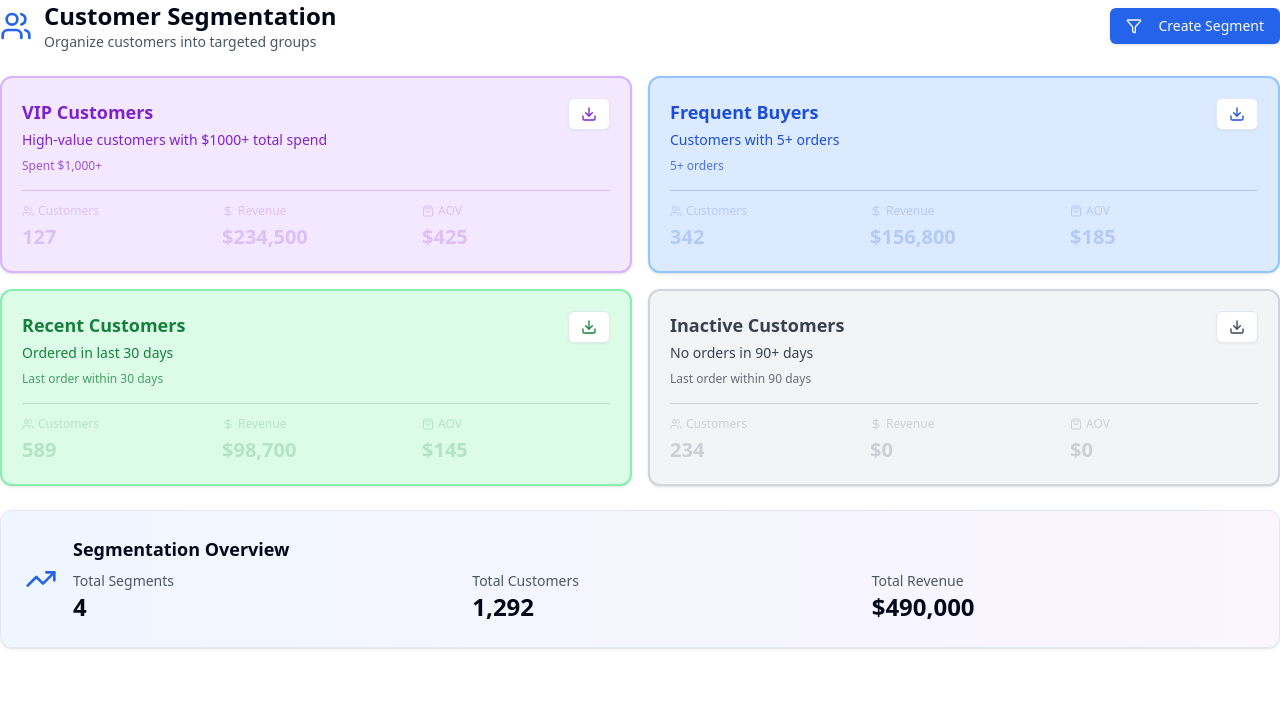
Test: CustomerSegmentation › opens create segment dialog
Click the button with test id "create-segment-btn" at (1195, 26), box [1110,8,1279,44]
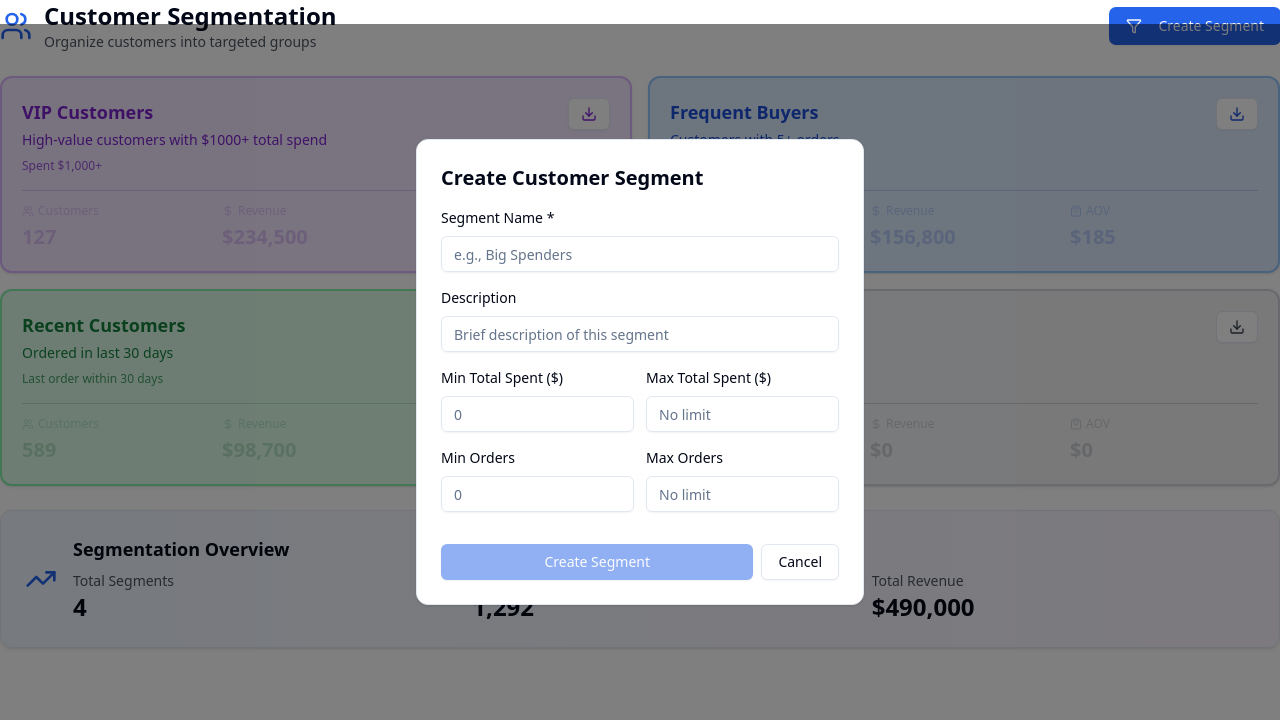
Expected: the element with test id "create-segment-dialog" is shown
